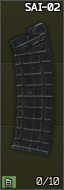SOK-12 12%576 SAI-02 10-round magazine: (0, 0, 64, 190)
